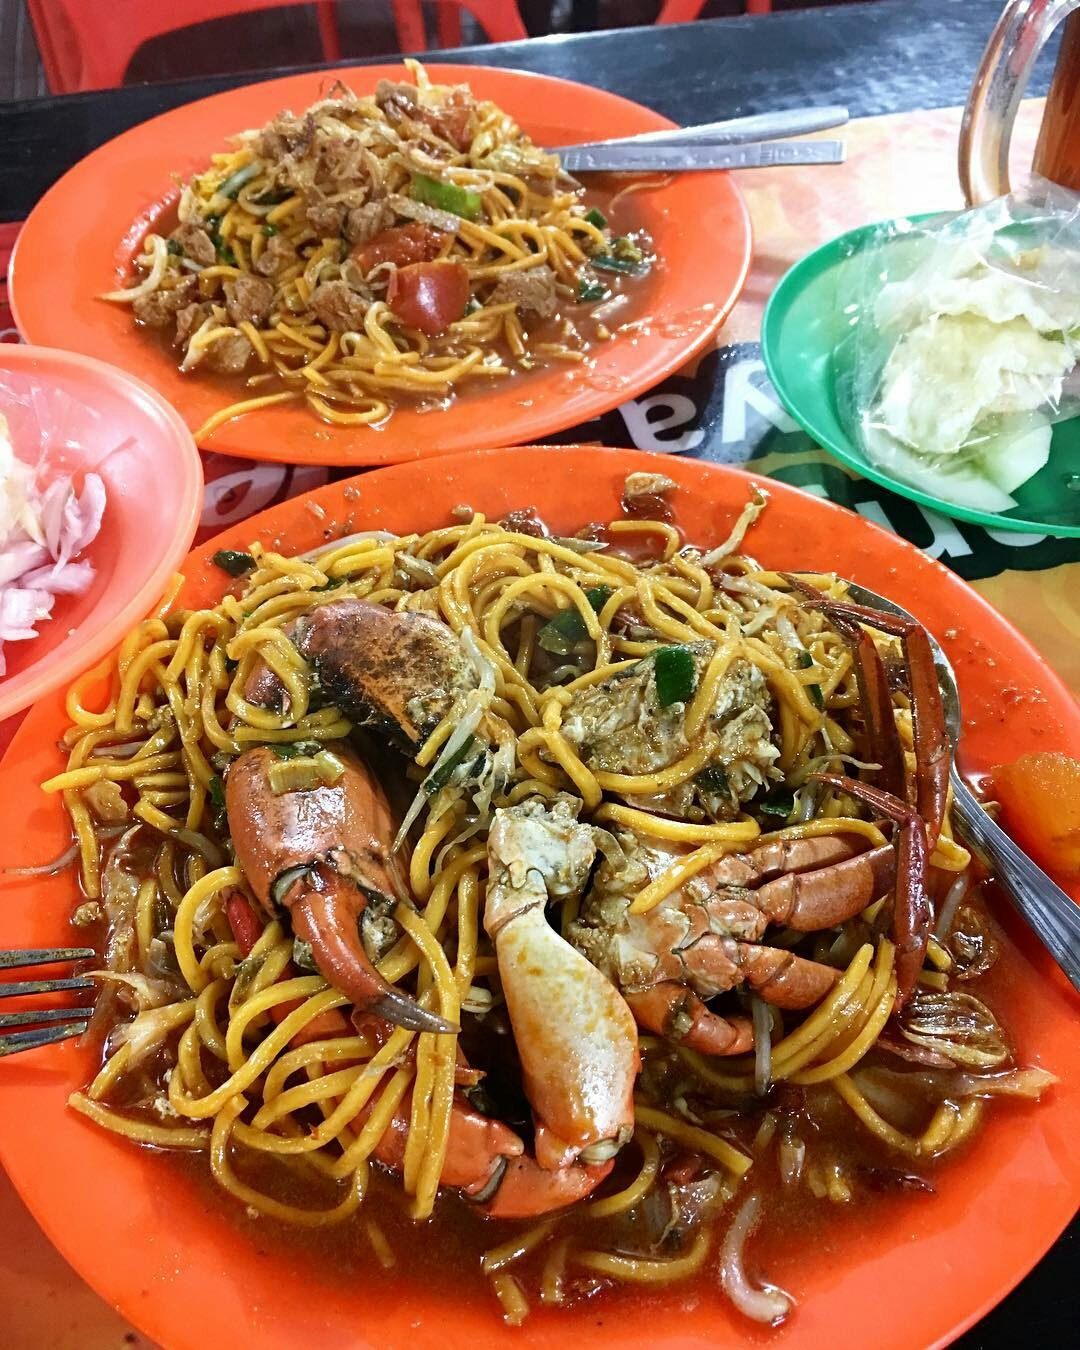mie_aceh: (76, 544, 1017, 1283), (131, 71, 660, 428)
